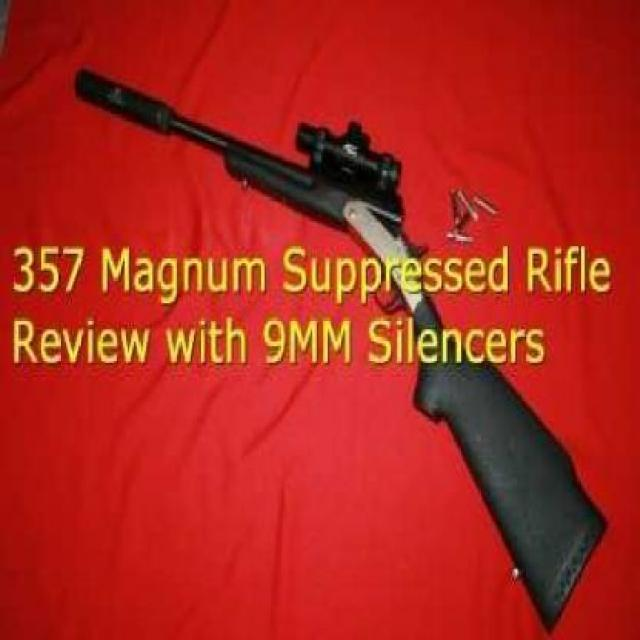weapon: (79, 73, 600, 611)
